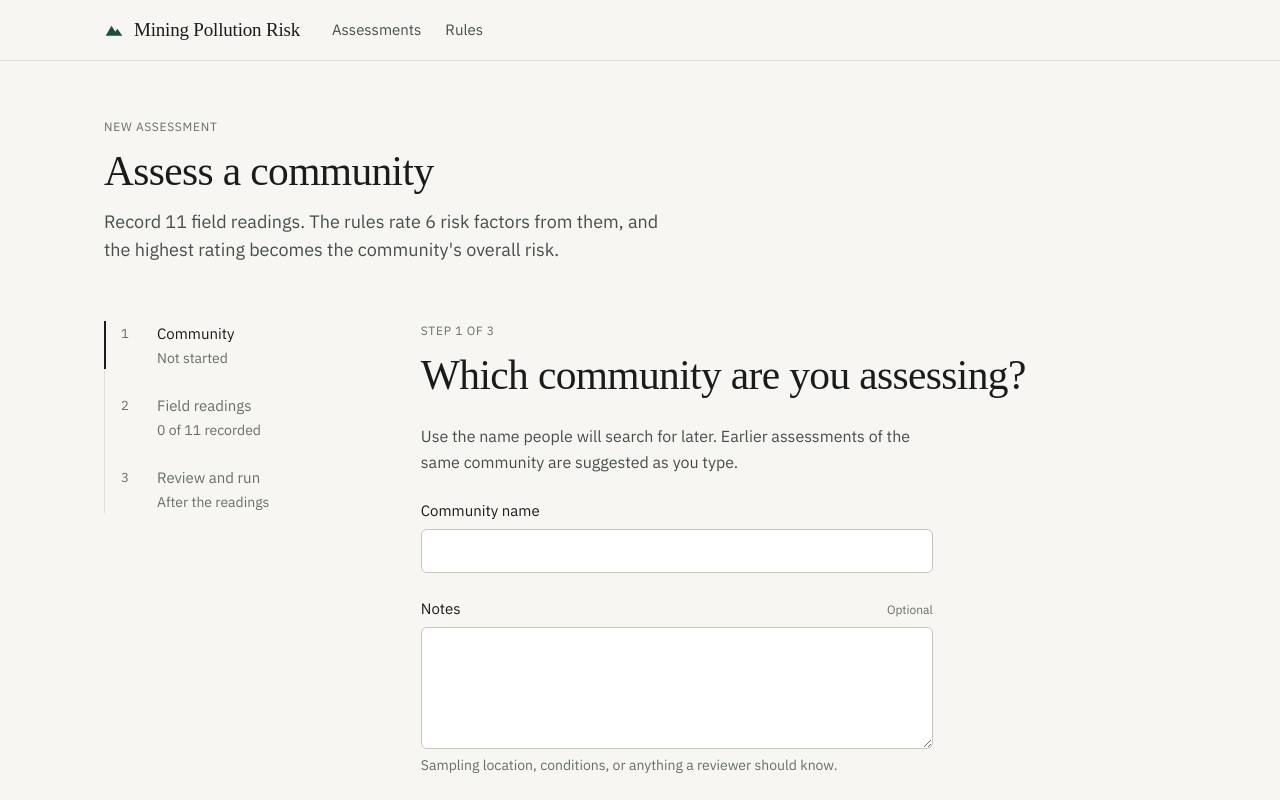
it: New assessment workflow › lists every missing reading before allowing review
The width and height of the screenshot is (1280, 800).
Type "Tarkwa" into the field labelled "Community name".
click(677, 551); type("Tarkwa")  # box top-left (421, 529), bottom-right (933, 573)
(page scrolled)
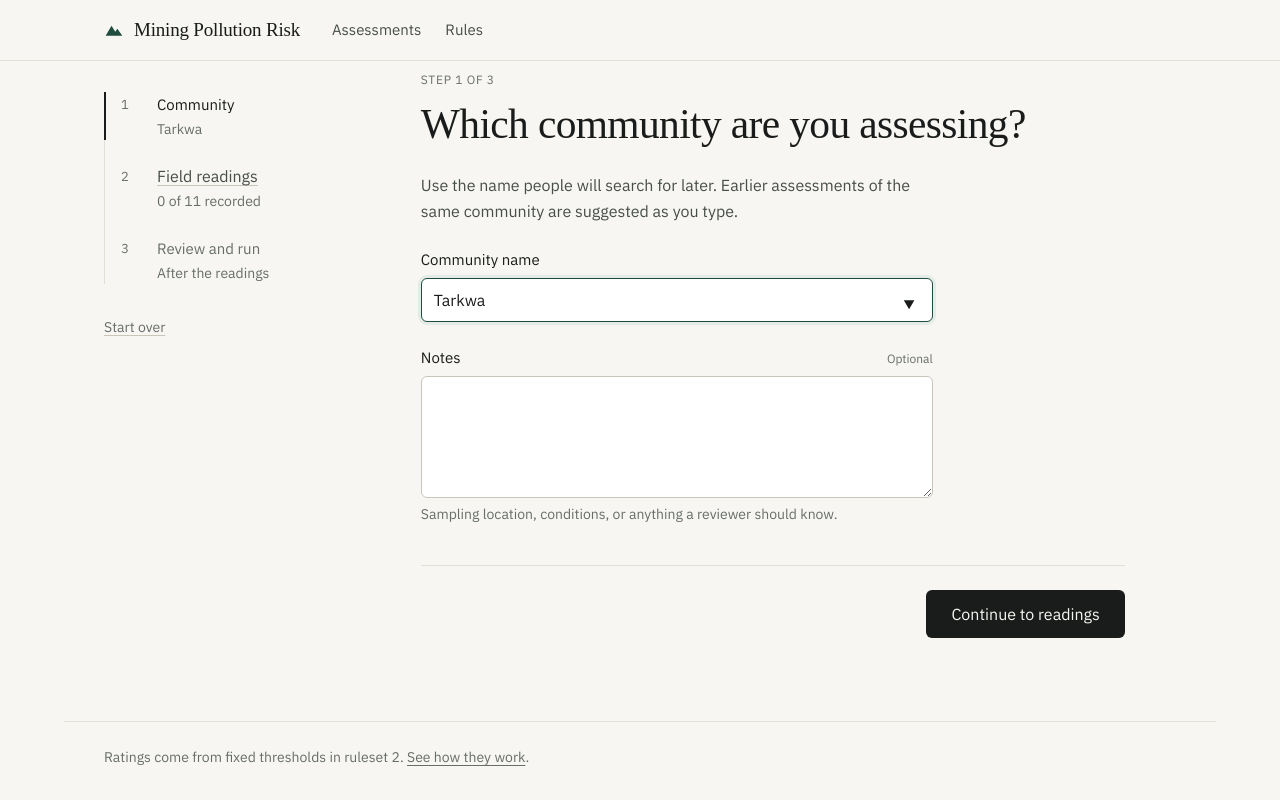
Click the button "Continue to readings".
click(1026, 614)  # box top-left (926, 590), bottom-right (1125, 638)
(page scrolled)
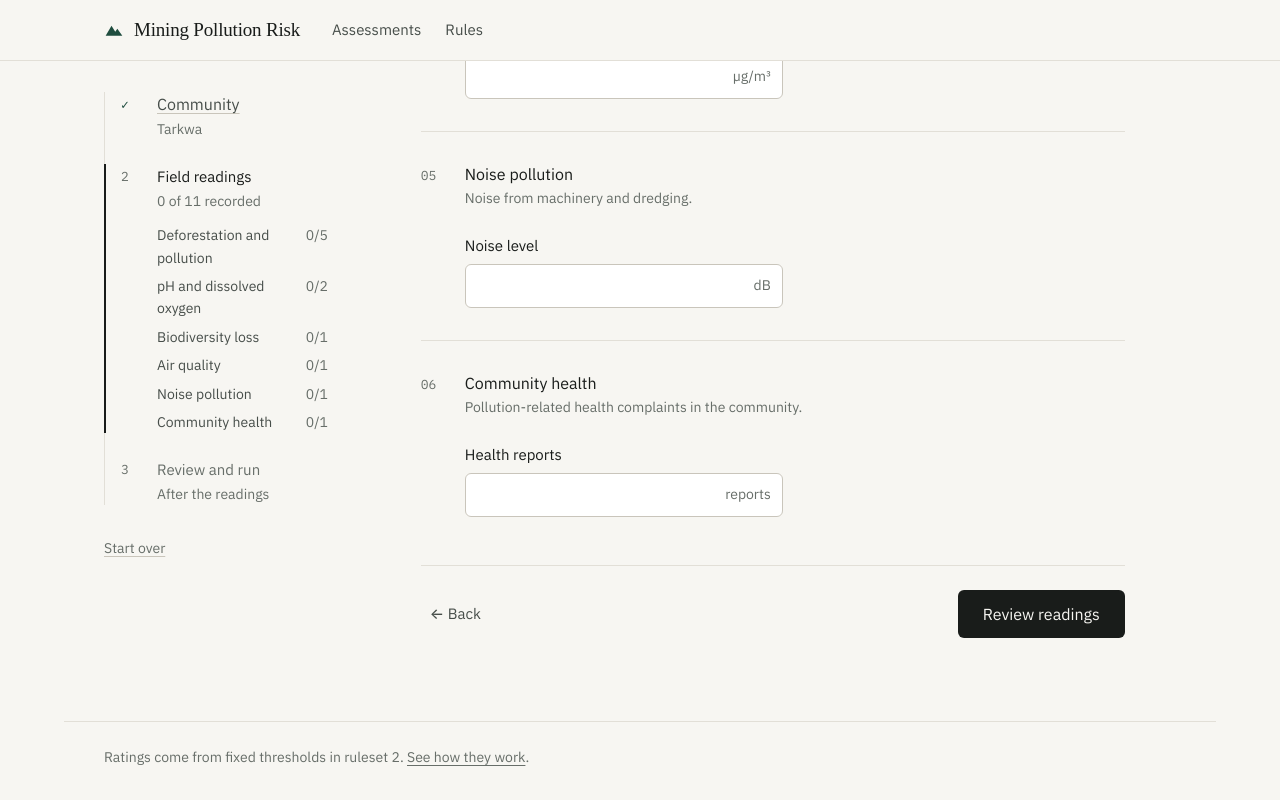
Click the button "Review readings".
click(1041, 614)  # box top-left (958, 590), bottom-right (1125, 638)
(page scrolled)
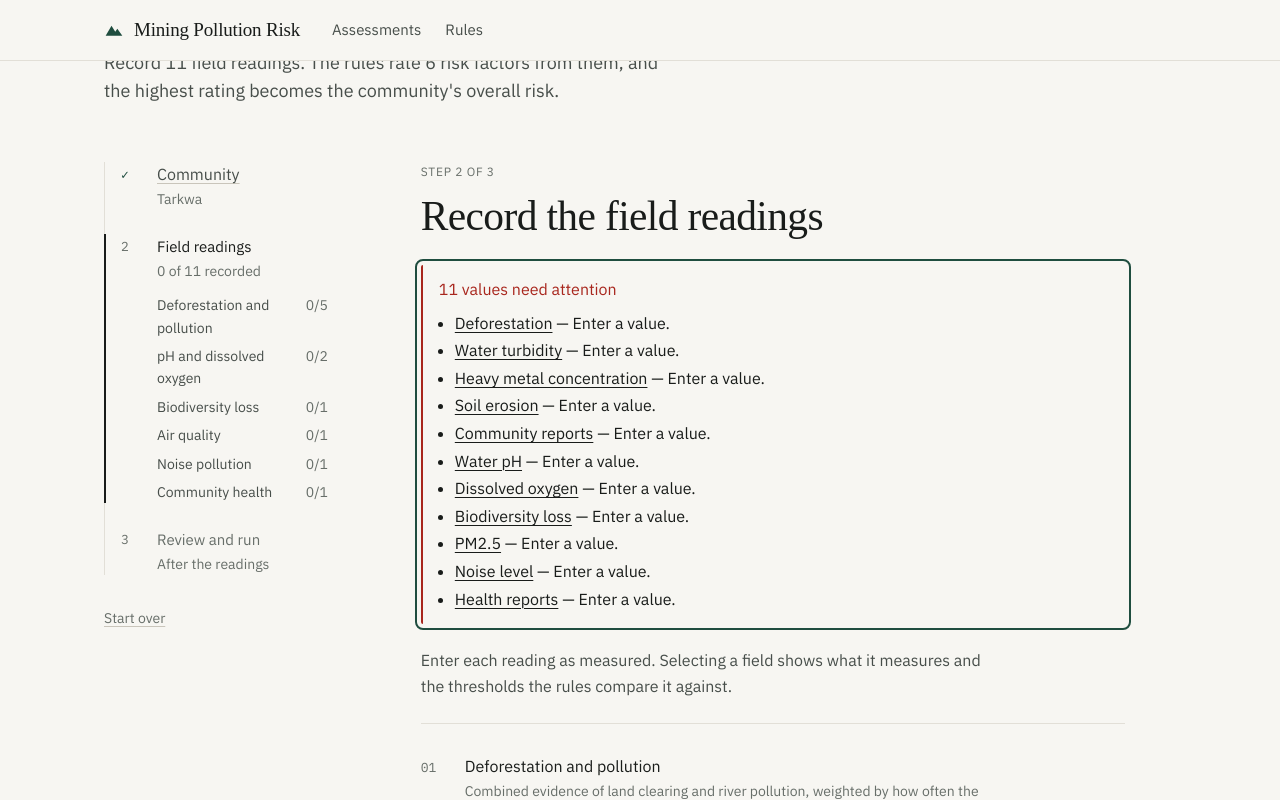
Expected: the heading "Record the field readings" is shown, top-left (421, 193), bottom-right (823, 239)
Expected: the text "11 values need attention" is shown, top-left (439, 279), bottom-right (617, 299)
